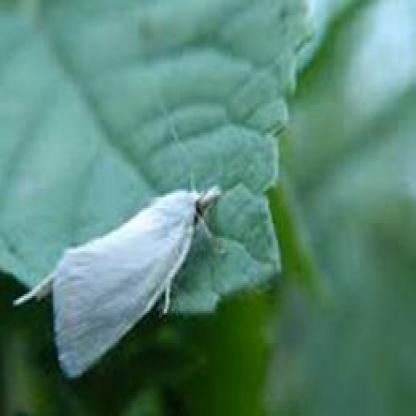stem-borer: (11, 178, 225, 384)
